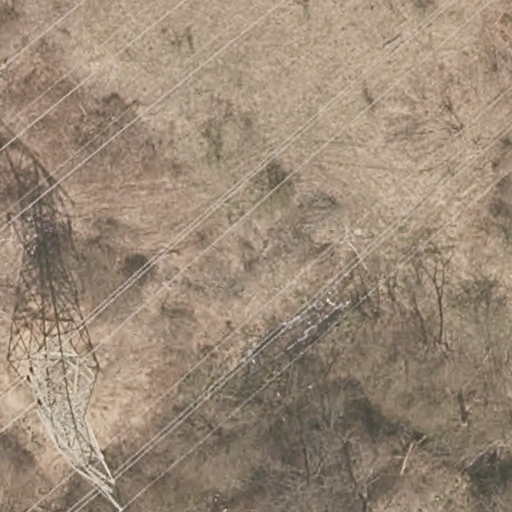TT: (8, 307, 123, 510)
